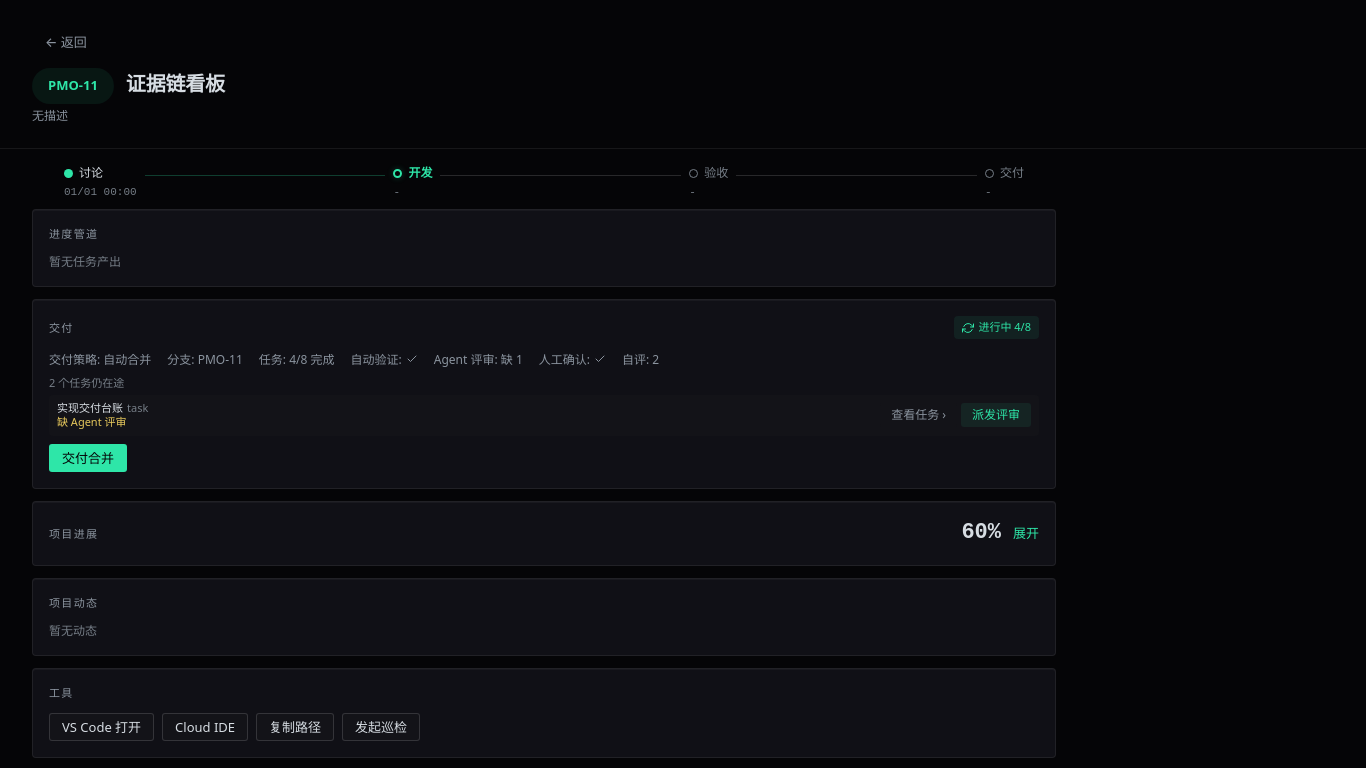
Test case: PMO-b/F6-c: 交付区块 › #474：进展卡折叠为次要块（头部恒显 %，展开见 Token meta/副标题；「已完成 n/m」已删——与交付台账重复）
expect the heading "项目进展" is shown: met, box 49,526 -> 98,541
expect the text "1.2M tokens（全周期累计）" is not shown: met
页面还有「项目动态/原始需求」的展开按钮——按卡片作用域点进展卡的
Click the button "展开" at (1026, 534), box 1013,525 -> 1039,542
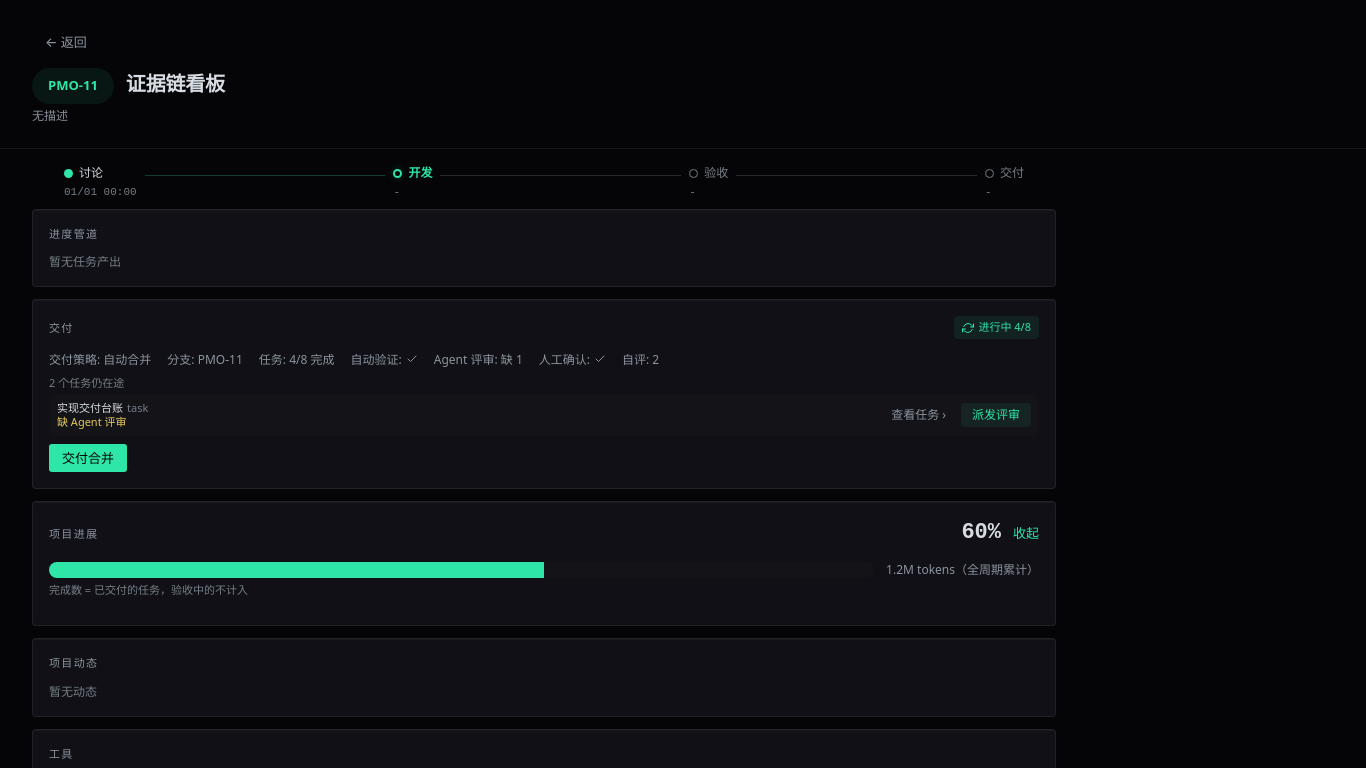
expect the text "1.2M tokens（全周期累计）" is shown: met, box 886,561 -> 1039,578
expect the text "完成数 = 已交付的任务，验收中的不计入" is shown: met, box 49,582 -> 248,597
